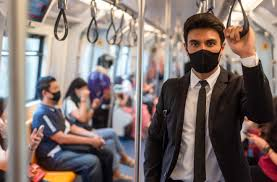mask: (189, 49, 219, 72), (52, 91, 61, 102)
